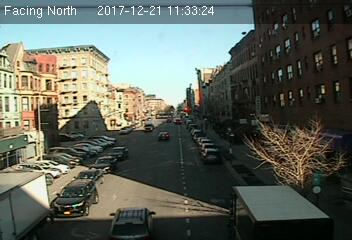car: (107, 207, 159, 240), (53, 178, 98, 215), (76, 169, 105, 186), (93, 156, 118, 175), (201, 147, 221, 164), (108, 147, 129, 161), (158, 131, 169, 140)
ups: (227, 184, 333, 240)
